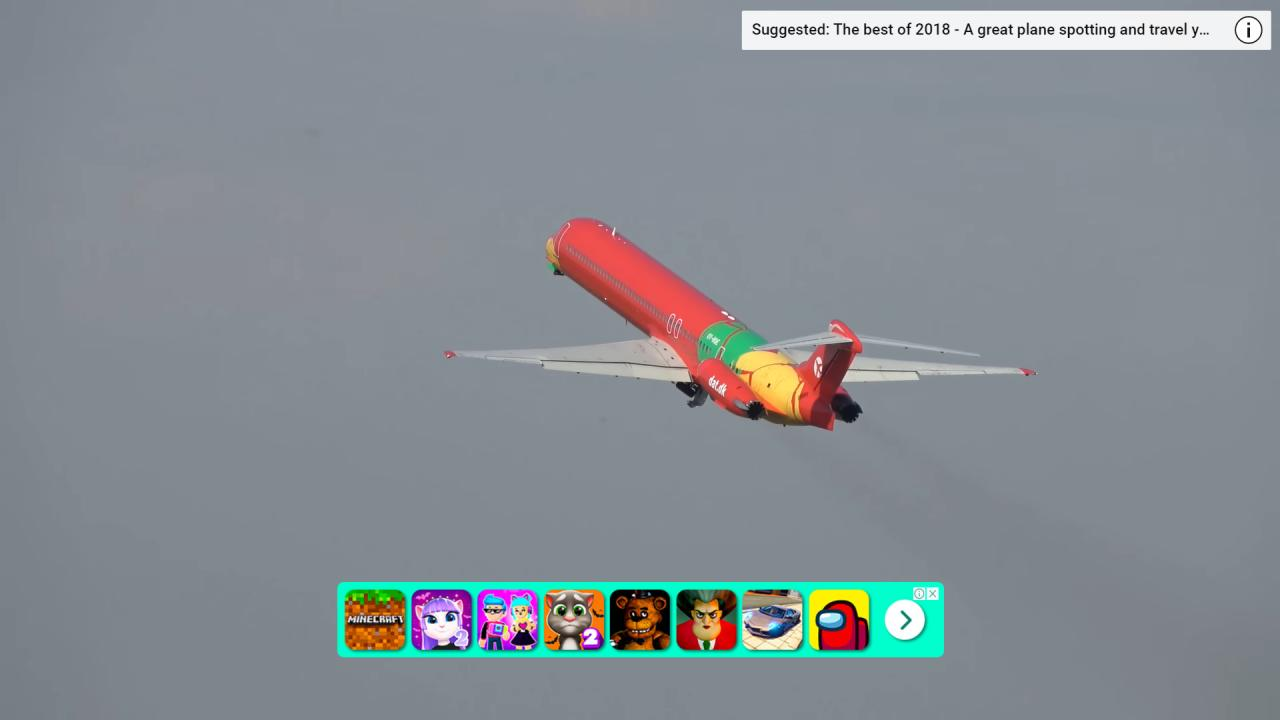Airplane: (421, 206, 1054, 441)
